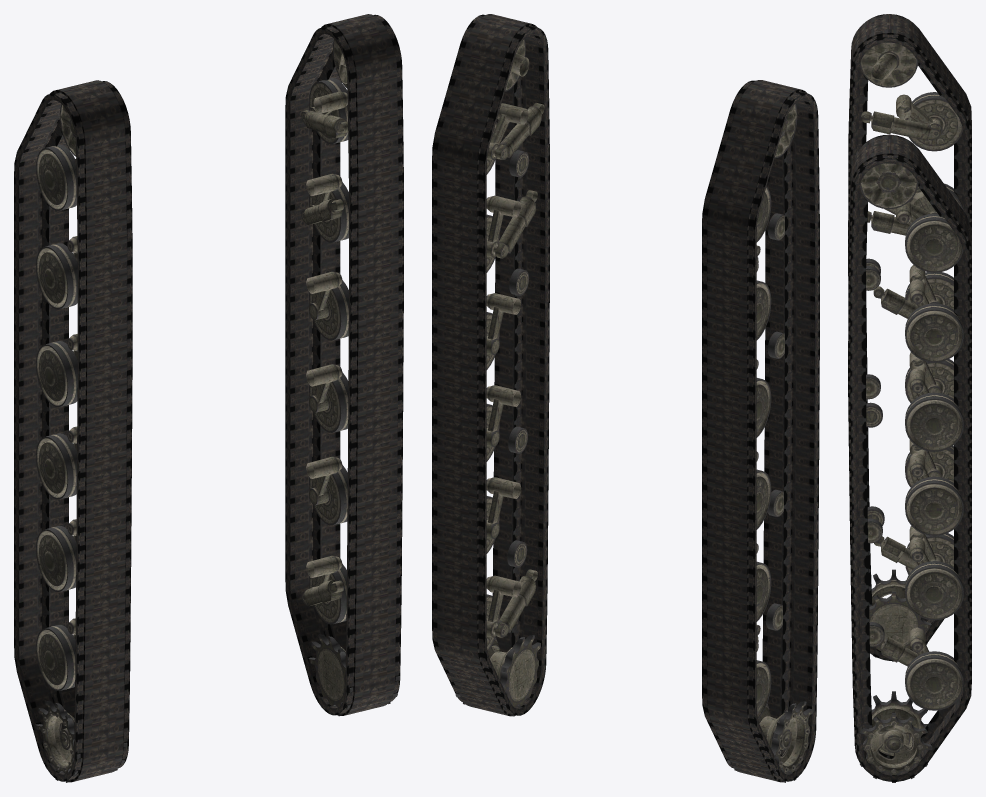
Rendered from Chassis.glb.
The picture shows the model from 3 angles, left to right: view 1: azimuth 30°, elevation 25°; view 2: azimuth 150°, elevation 25°; view 3: azimuth 270°, elevation 25°; orthographic projection. The views are drawn at different scales.
Visible parts, largest first — view 1: set_0_group_0, set_1_group_0, set_2_group_0, set_3_group_0; view 2: set_0_group_0, set_1_group_0, set_3_group_0, set_2_group_0; view 3: set_3_group_0, set_1_group_0, set_2_group_0, set_0_group_0.
Boxes of the visible parts, x1,y1,x2,y2 form: set_0_group_0: (14,80,132,782); set_1_group_0: (285,14,403,715); set_2_group_0: (35,104,127,782); set_3_group_0: (301,39,400,716); set_0_group_0: (702,80,819,782); set_1_group_0: (432,14,549,716); set_3_group_0: (455,39,544,716); set_2_group_0: (727,104,813,782); set_3_group_0: (855,163,963,782); set_1_group_0: (848,134,971,781); set_2_group_0: (860,42,963,661); set_0_group_0: (848,14,971,660).
Size of the model in its own units: 3.24 by 6.57 by 1.17.
4 materials, 4 textured.
